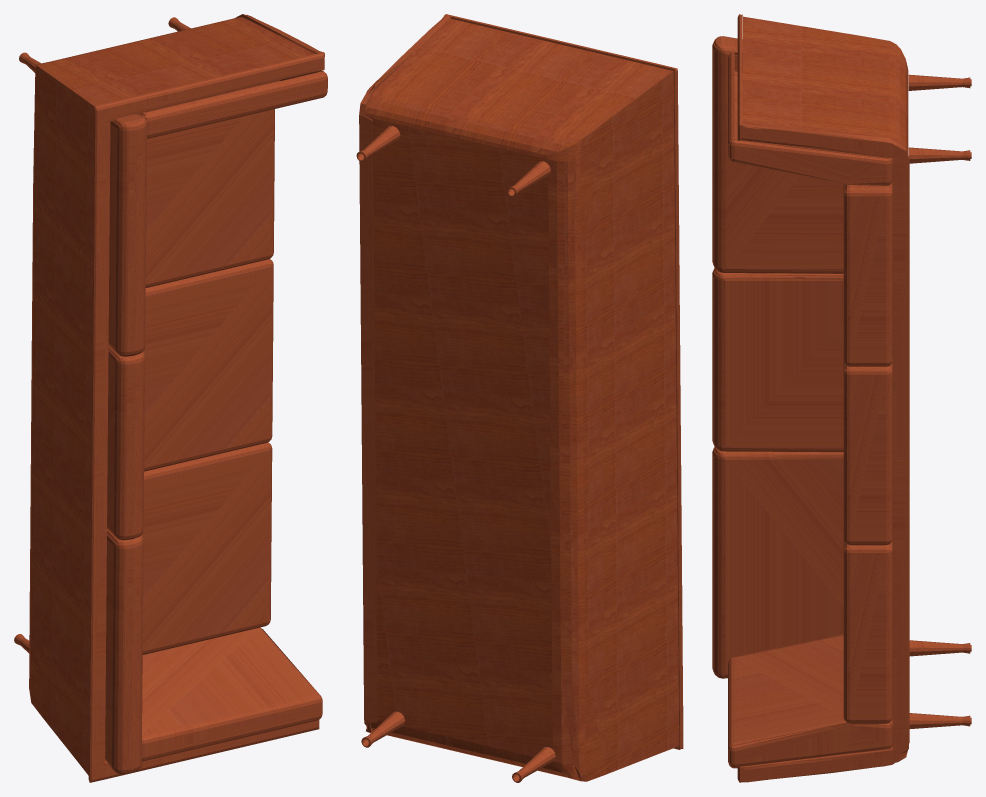
File: goetz_sofa.dae
3 views of the same model, side by side, from view 1: azimuth 30°, elevation 25°; view 2: azimuth 150°, elevation 25°; view 3: azimuth 270°, elevation 25° (orthographic). The views are drawn at different scales.
Visible parts, largest first — view 1: node; view 2: node; view 3: node.
Boxes of the visible parts, left/top/right/bottom form: node: left=14, top=14, right=327, bottom=782; node: left=356, top=14, right=683, bottom=782; node: left=712, top=14, right=971, bottom=782.
Size of the model in its own units: 32.4 by 86.81 by 30.83.
Materials: 1 (1 with a texture image).
